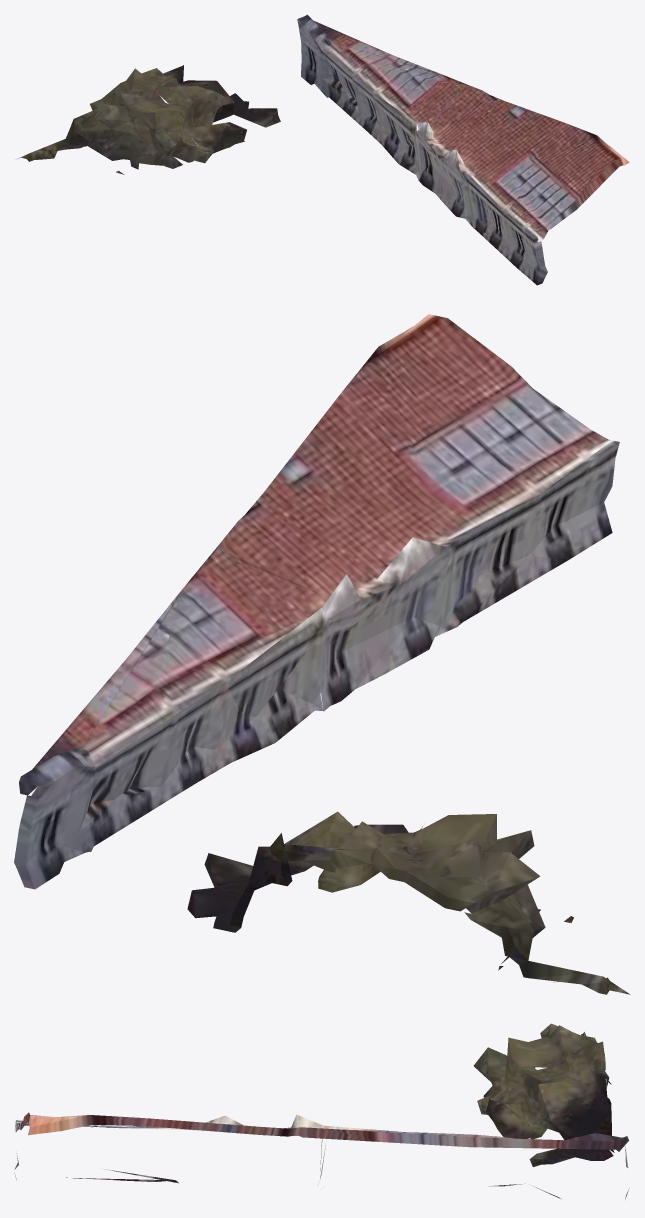
3 renders of one model, top to bottom at view 1: azimuth 30°, elevation 25°; view 2: azimuth 150°, elevation 25°; view 3: azimuth 270°, elevation 25°, orthographic. The views are drawn at different scales.
Parts seen in each view (by area): view 1: Mesh_0; view 2: Mesh_0; view 3: Mesh_0.
Boxes of the visible parts, x1,y1,x2,y2 form: Mesh_0: (18, 14, 629, 285); Mesh_0: (14, 314, 629, 994); Mesh_0: (14, 1023, 629, 1199).
Bounding box in the file's own units: 29.63 × 8.28 × 39.07.
1 material, 1 textured.
